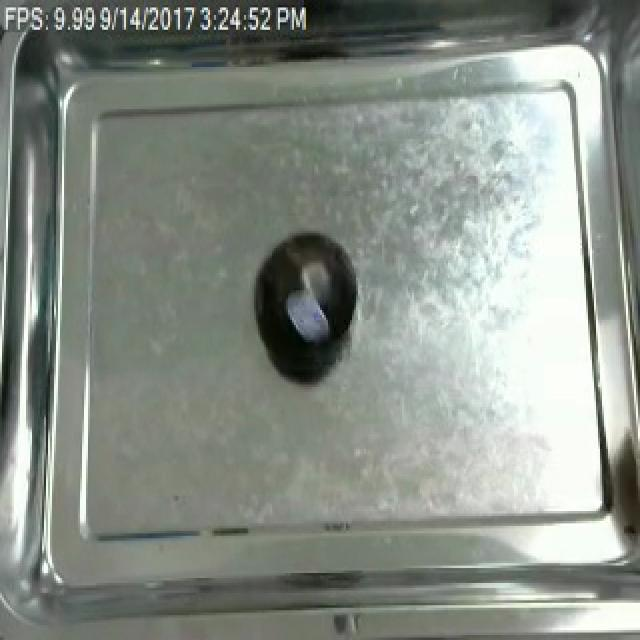Fruit: (254, 228, 344, 355)
